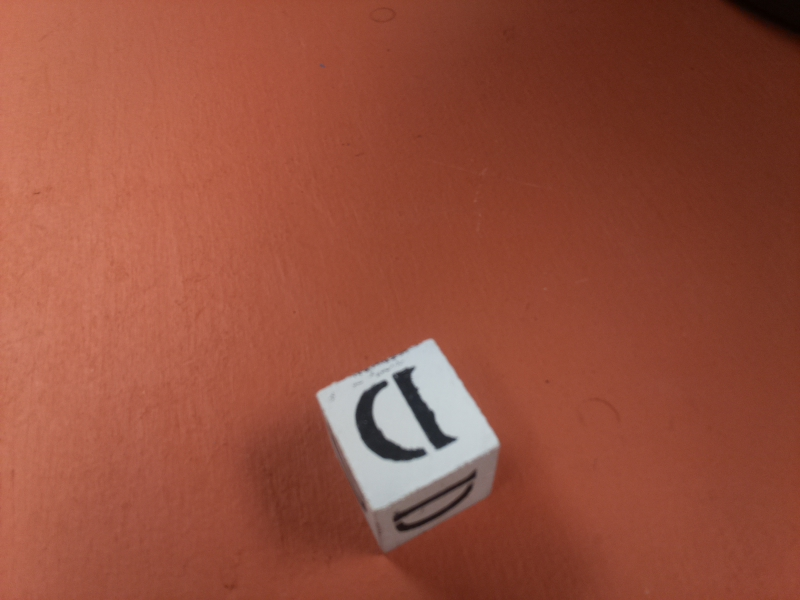blockD: (313, 338, 499, 551)
